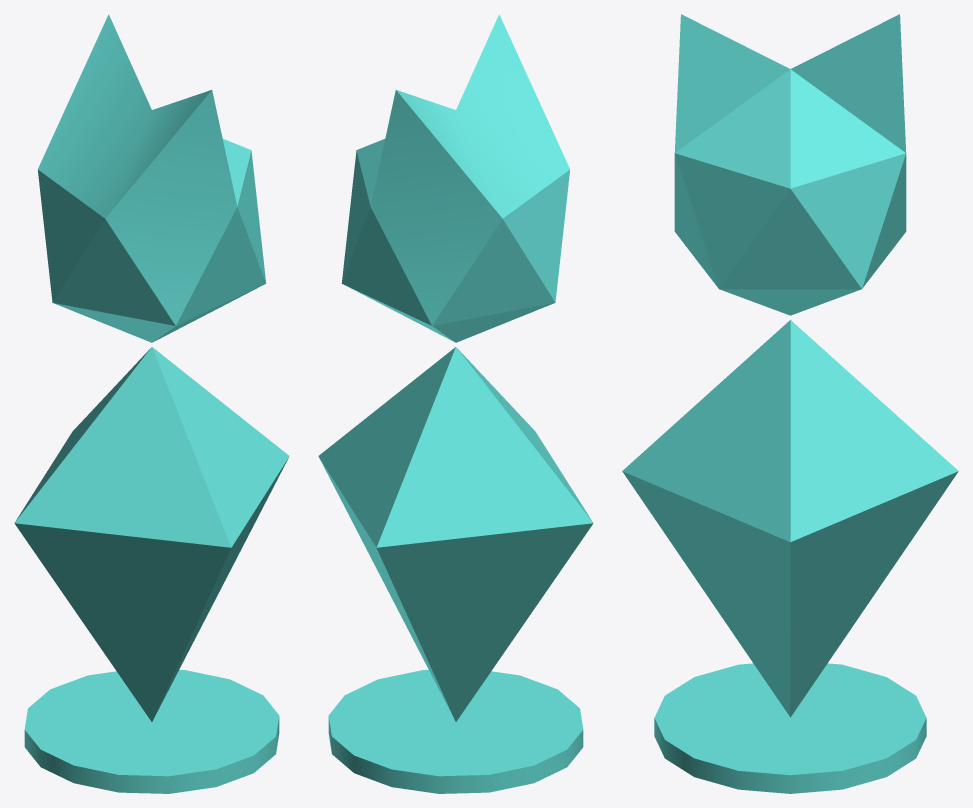
The model's file is FodderTokens (2).fbx.
The picture shows the model from 3 angles, left to right: view 1: azimuth 30°, elevation 25°; view 2: azimuth 150°, elevation 25°; view 3: azimuth 270°, elevation 25°; orthographic projection. The views are drawn at different scales.
Visible parts, largest first — view 1: Cube; view 2: Cube; view 3: Cube.
Part boxes in pixels (box(x1,y1,x2,y2)): Cube: box(14, 14, 289, 793); Cube: box(318, 14, 593, 793); Cube: box(622, 14, 958, 793).
Size of the model in its own units: 248 by 590 by 248.
